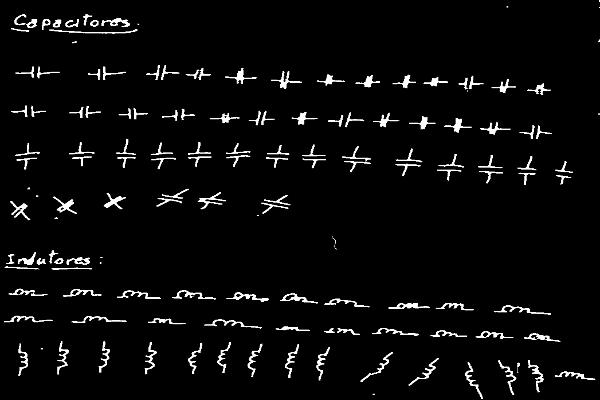capacitor: (475, 158, 507, 182), (391, 153, 425, 173), (433, 158, 468, 177), (339, 151, 373, 169), (331, 109, 358, 130), (221, 146, 254, 163), (12, 147, 43, 165), (257, 197, 294, 212), (524, 122, 550, 143), (21, 63, 51, 81), (66, 146, 96, 164), (300, 148, 330, 166), (272, 69, 295, 92), (249, 108, 274, 129), (146, 149, 178, 165), (514, 162, 539, 182), (148, 62, 171, 83), (481, 120, 507, 138), (264, 149, 293, 165), (446, 115, 468, 136), (228, 67, 251, 87), (167, 107, 194, 124), (552, 164, 576, 183), (194, 195, 229, 208), (412, 113, 433, 134), (90, 64, 113, 83), (374, 111, 397, 130), (185, 148, 214, 163), (112, 148, 139, 164), (394, 72, 415, 92), (290, 109, 313, 127), (357, 72, 378, 91), (8, 202, 30, 220), (54, 198, 77, 215), (18, 104, 42, 120), (102, 194, 127, 209), (75, 104, 97, 121), (188, 64, 208, 82), (492, 78, 514, 94), (319, 71, 338, 89), (155, 192, 186, 203), (460, 74, 479, 91), (215, 111, 236, 125), (426, 74, 443, 91), (123, 107, 142, 122), (531, 82, 550, 96)
inductor: (364, 354, 389, 379), (412, 359, 438, 383), (281, 346, 302, 375), (496, 302, 534, 317), (525, 362, 546, 389), (245, 345, 265, 373), (498, 363, 518, 391), (185, 346, 206, 372), (52, 345, 72, 372), (462, 365, 481, 393), (65, 286, 100, 301), (140, 346, 160, 372), (75, 314, 117, 326), (96, 344, 114, 372), (314, 349, 332, 377), (14, 347, 33, 373), (214, 346, 233, 372), (208, 318, 251, 329), (7, 313, 42, 326), (281, 291, 313, 305), (120, 288, 154, 301), (477, 330, 508, 344), (556, 368, 587, 382), (174, 289, 209, 301), (228, 290, 262, 302), (438, 300, 469, 313), (393, 300, 426, 312), (374, 326, 407, 338), (525, 331, 555, 344), (432, 328, 462, 340), (325, 298, 360, 308), (11, 287, 39, 299), (327, 325, 357, 336), (149, 315, 176, 327), (278, 323, 304, 334)
